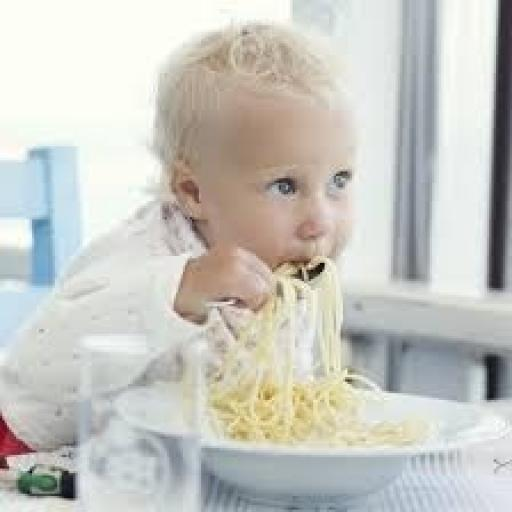eating: (0, 16, 366, 464)
